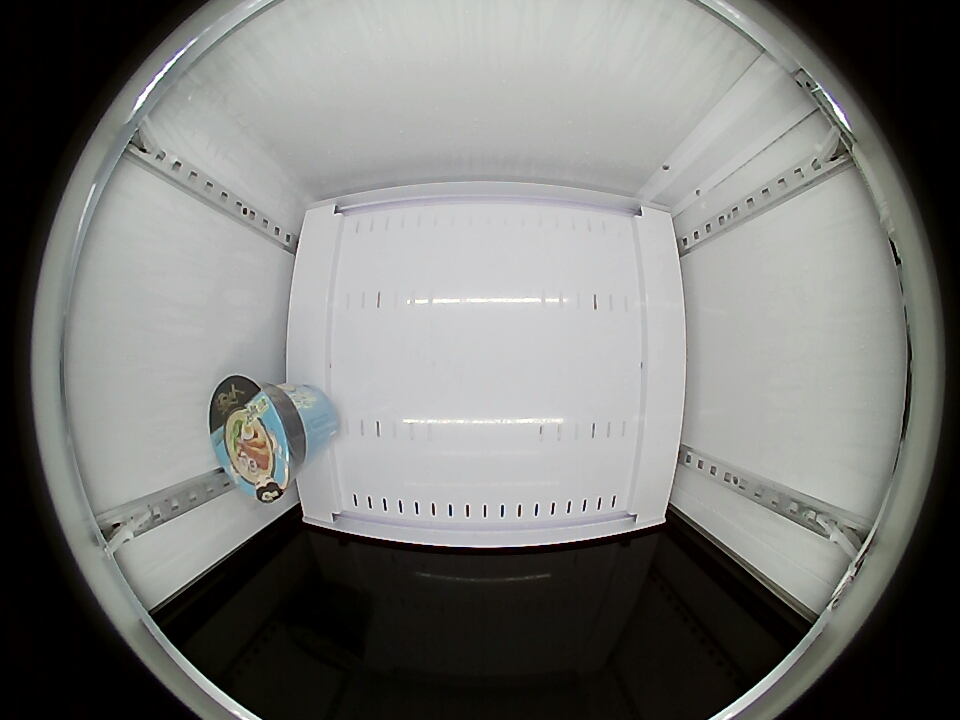tangdaren3: (209, 375, 306, 503)
